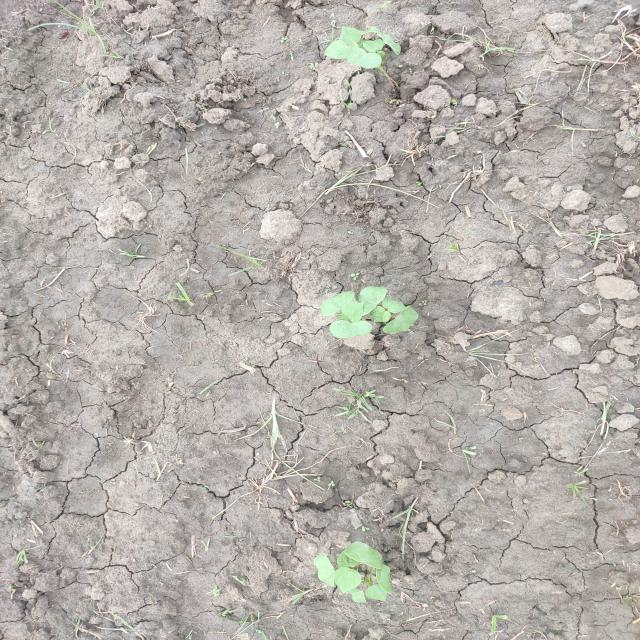seedling_s4: (344, 541, 383, 569), (383, 305, 419, 334), (357, 286, 387, 316), (320, 291, 355, 316), (330, 320, 373, 338), (347, 48, 382, 69), (334, 567, 361, 594), (314, 553, 335, 587), (324, 40, 359, 59), (377, 33, 401, 55), (376, 565, 393, 594), (341, 302, 364, 322), (340, 26, 362, 44), (337, 550, 360, 567), (365, 584, 387, 601), (382, 297, 405, 313), (371, 306, 392, 322), (362, 39, 383, 52), (347, 589, 366, 603), (358, 26, 382, 35)
